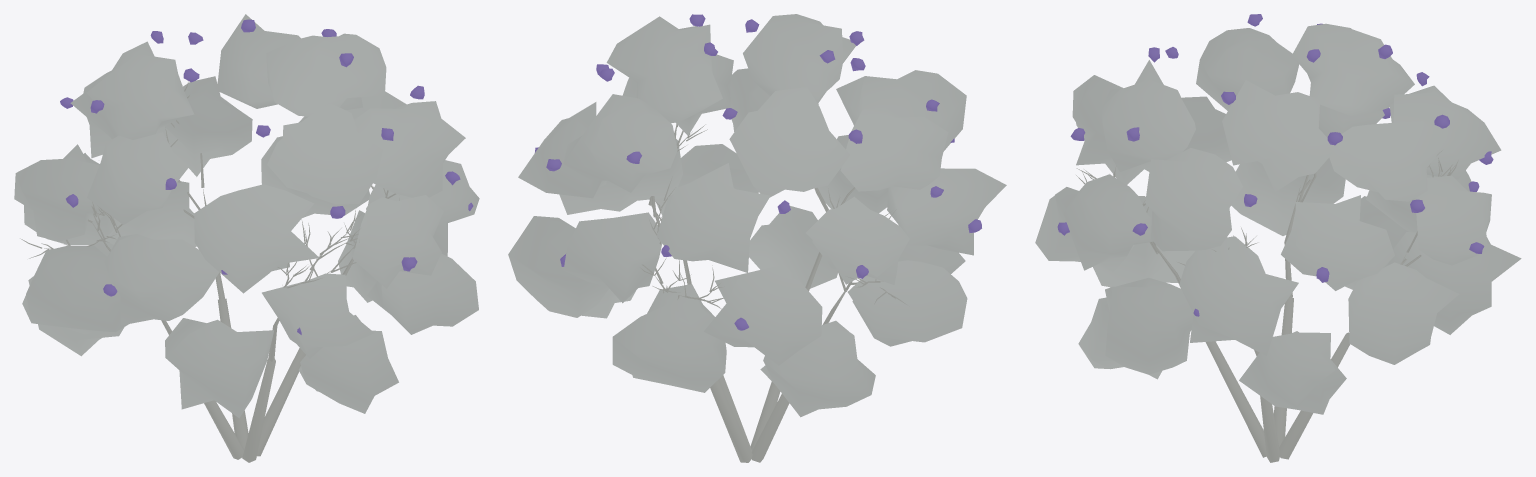
File: Blender_SmokeTree_1.glb
The picture shows the model from 3 angles, left to right: view 1: azimuth 30°, elevation 25°; view 2: azimuth 150°, elevation 25°; view 3: azimuth 270°, elevation 25°; orthographic projection.
Visible parts, largest first — view 1: Blender_SmokeTree_1; view 2: Blender_SmokeTree_1; view 3: Blender_SmokeTree_1.
Boxes of the visible parts, x1,y1,x2,y2 form: Blender_SmokeTree_1: [14, 14, 479, 462]; Blender_SmokeTree_1: [508, 14, 1006, 462]; Blender_SmokeTree_1: [1035, 14, 1521, 462].
Bounding box in the file's own units: 5.39 × 5.01 × 5.28.
